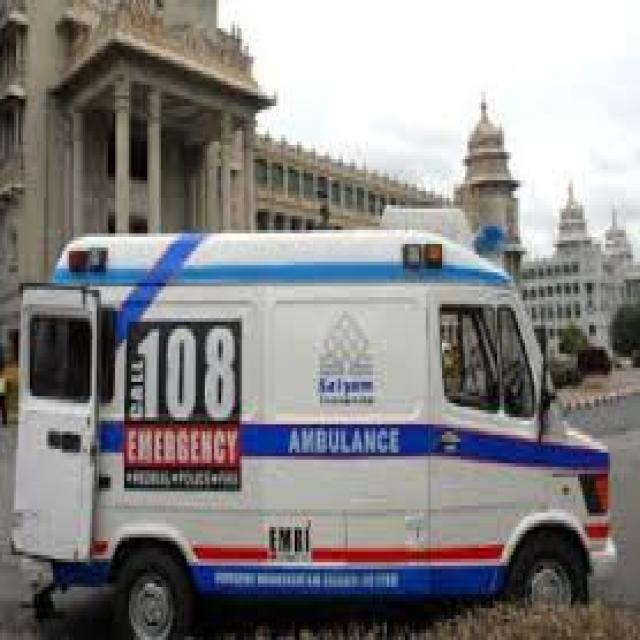Ambulance: (12, 212, 636, 612)
